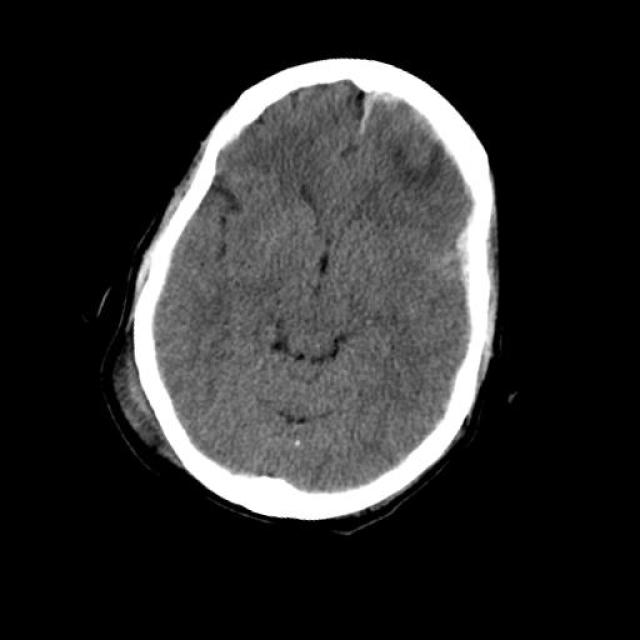Subdural: (326, 79, 526, 284)
